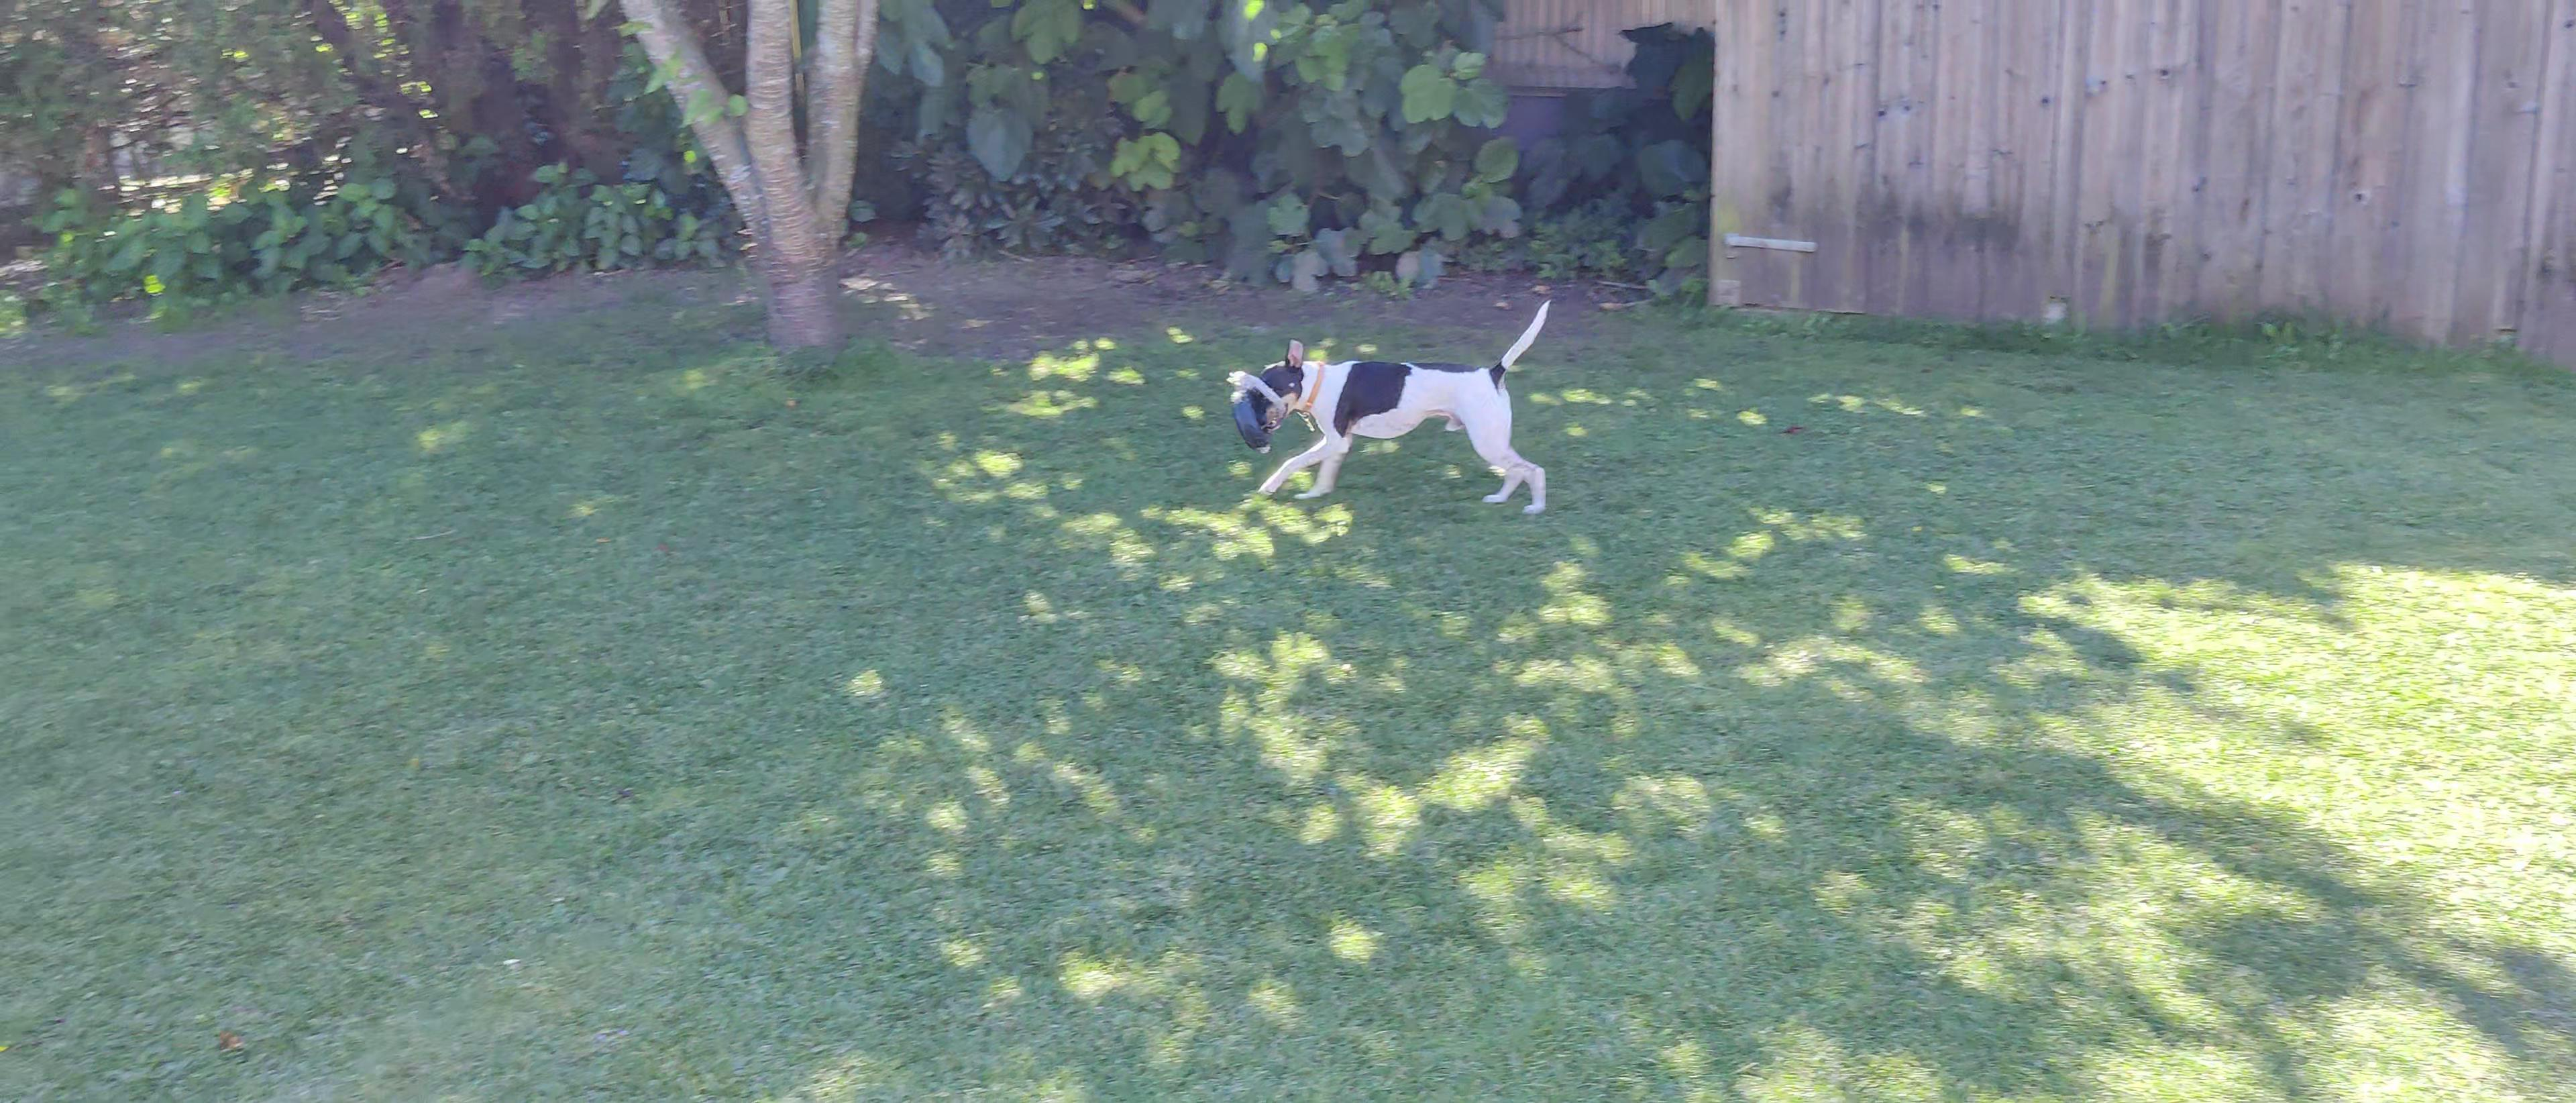Dog: (1232, 291, 1554, 515)
